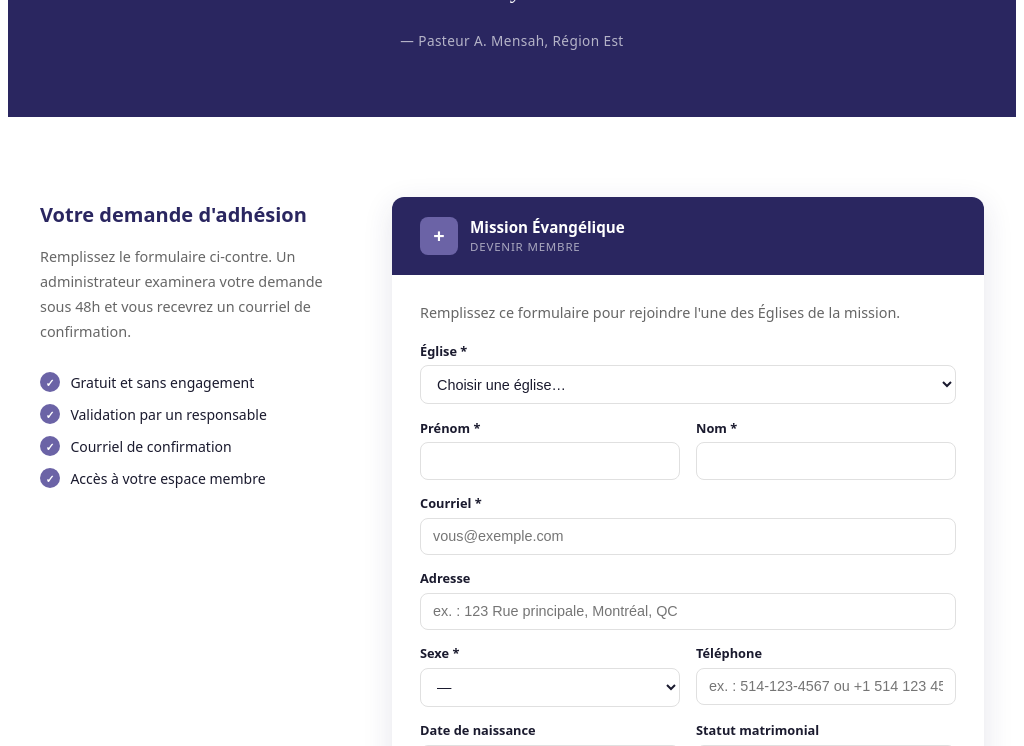
MembershipPage — envoi et confirmation › confirme différemment une adhésion approuvée automatiquement
The width and height of the screenshot is (1024, 746).
(page scrolled)
Select "Église centrale — Centre" in the 1st dropdown at [688, 385], box [420,365,956,404]
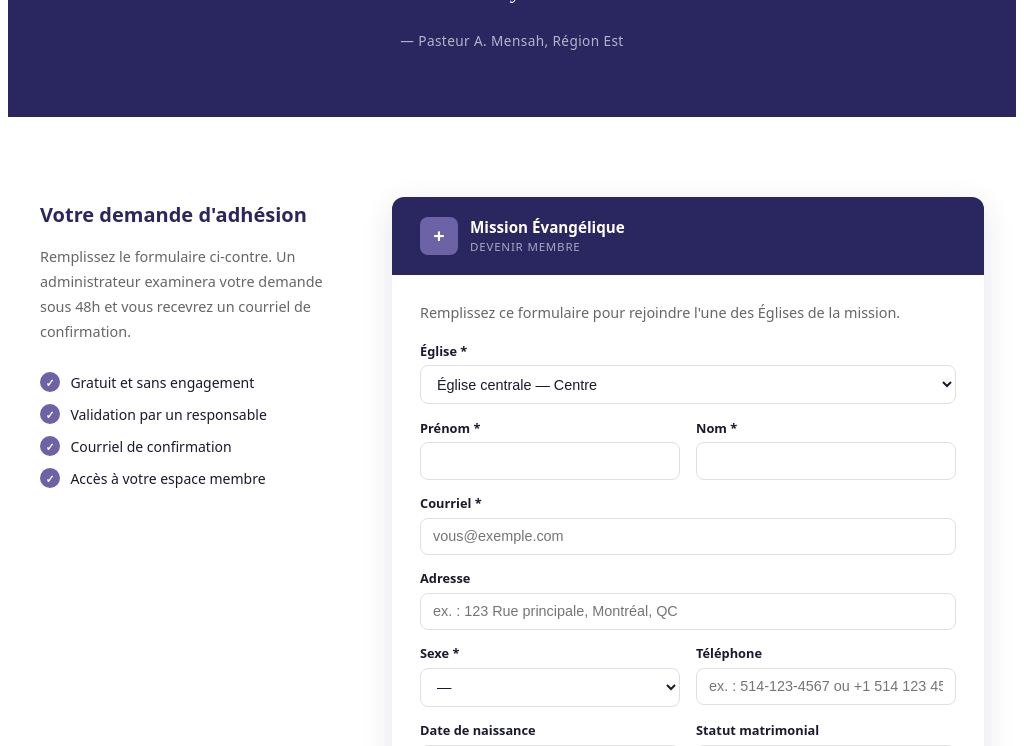
Type "Marie" into the field below "Prénom *" at [550, 461], box [420,442,680,480]
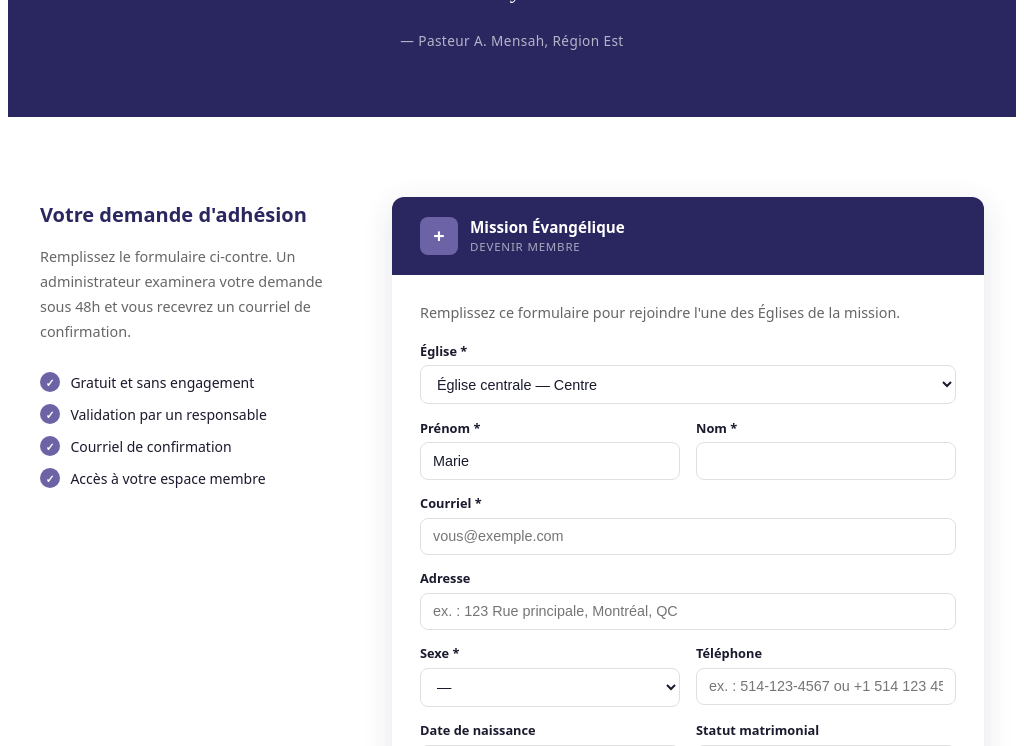
Type "Dupont" into the 2nd field at [826, 461], box [696,442,956,480]
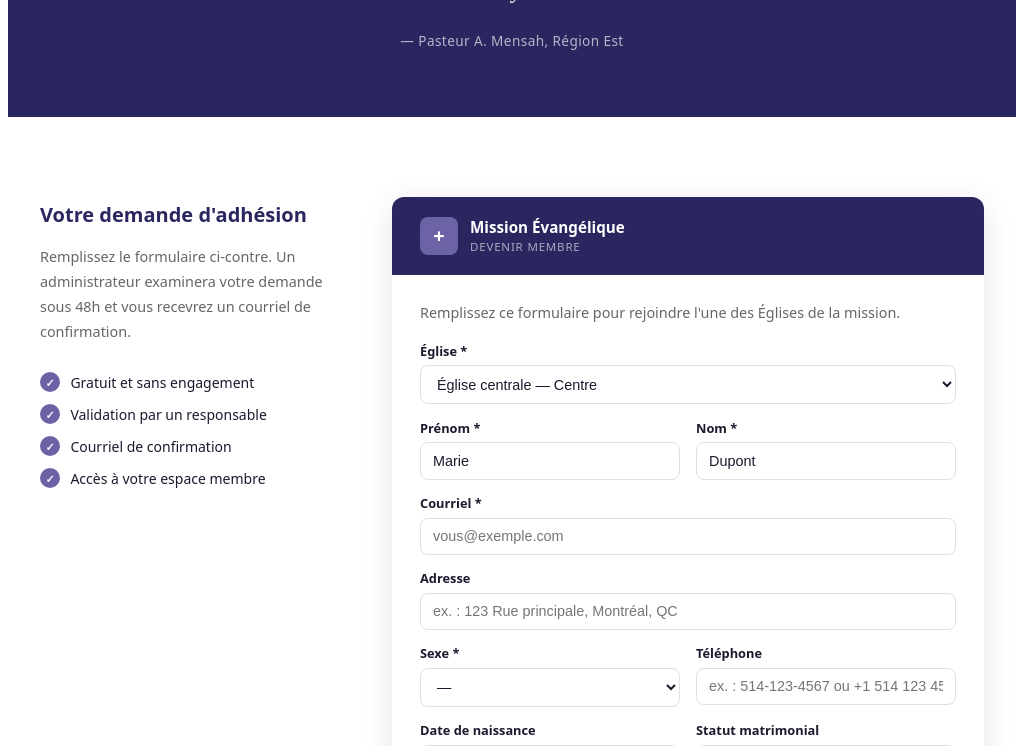
Type "marie@exemple.com" into the field with placeholder "vous@exemple.com" at [688, 536], box [420,518,956,555]
(page scrolled)
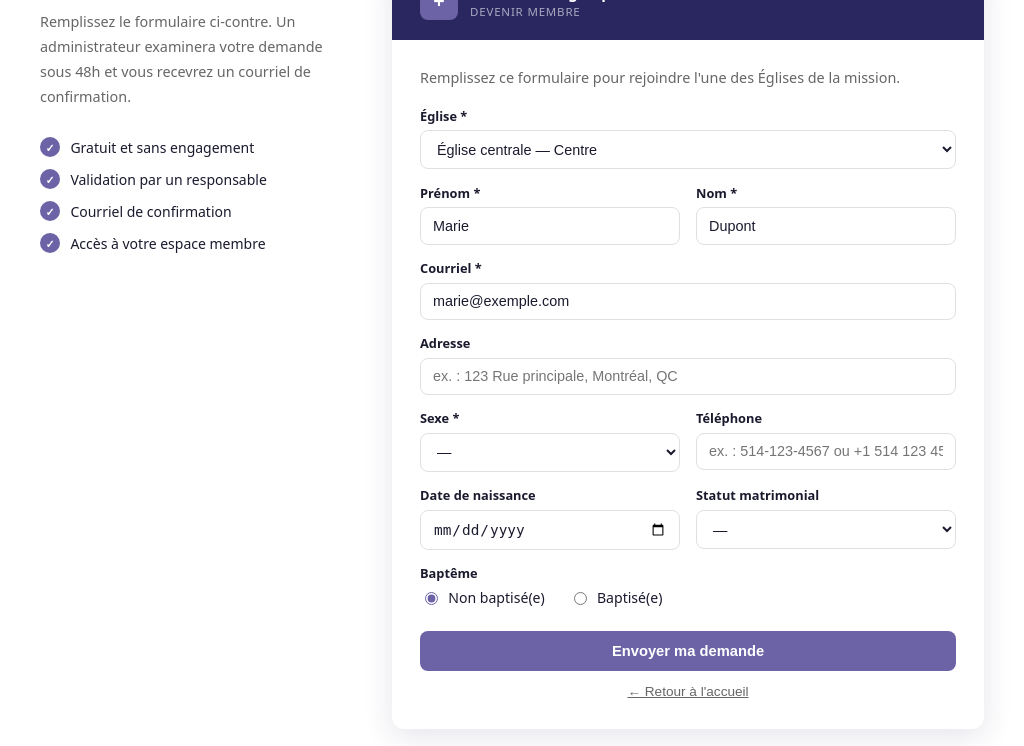
Submit the form, box [392,40,984,729]
(page scrolled)
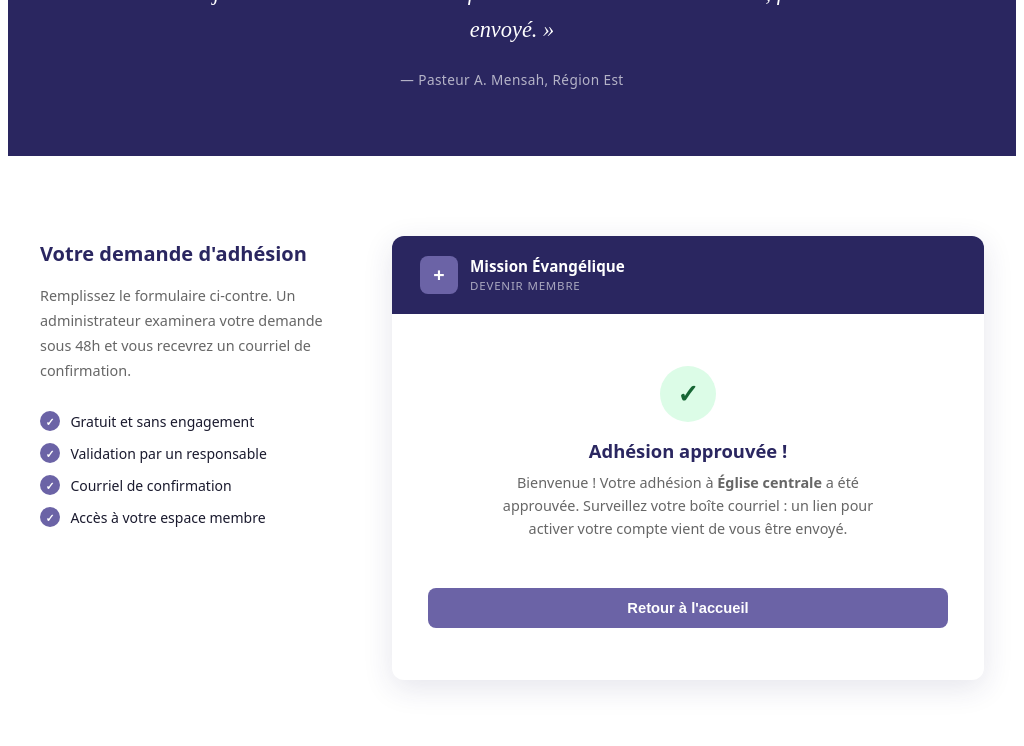
Now the heading "Adhésion approuvée !" is shown, box [589,438,787,463]
